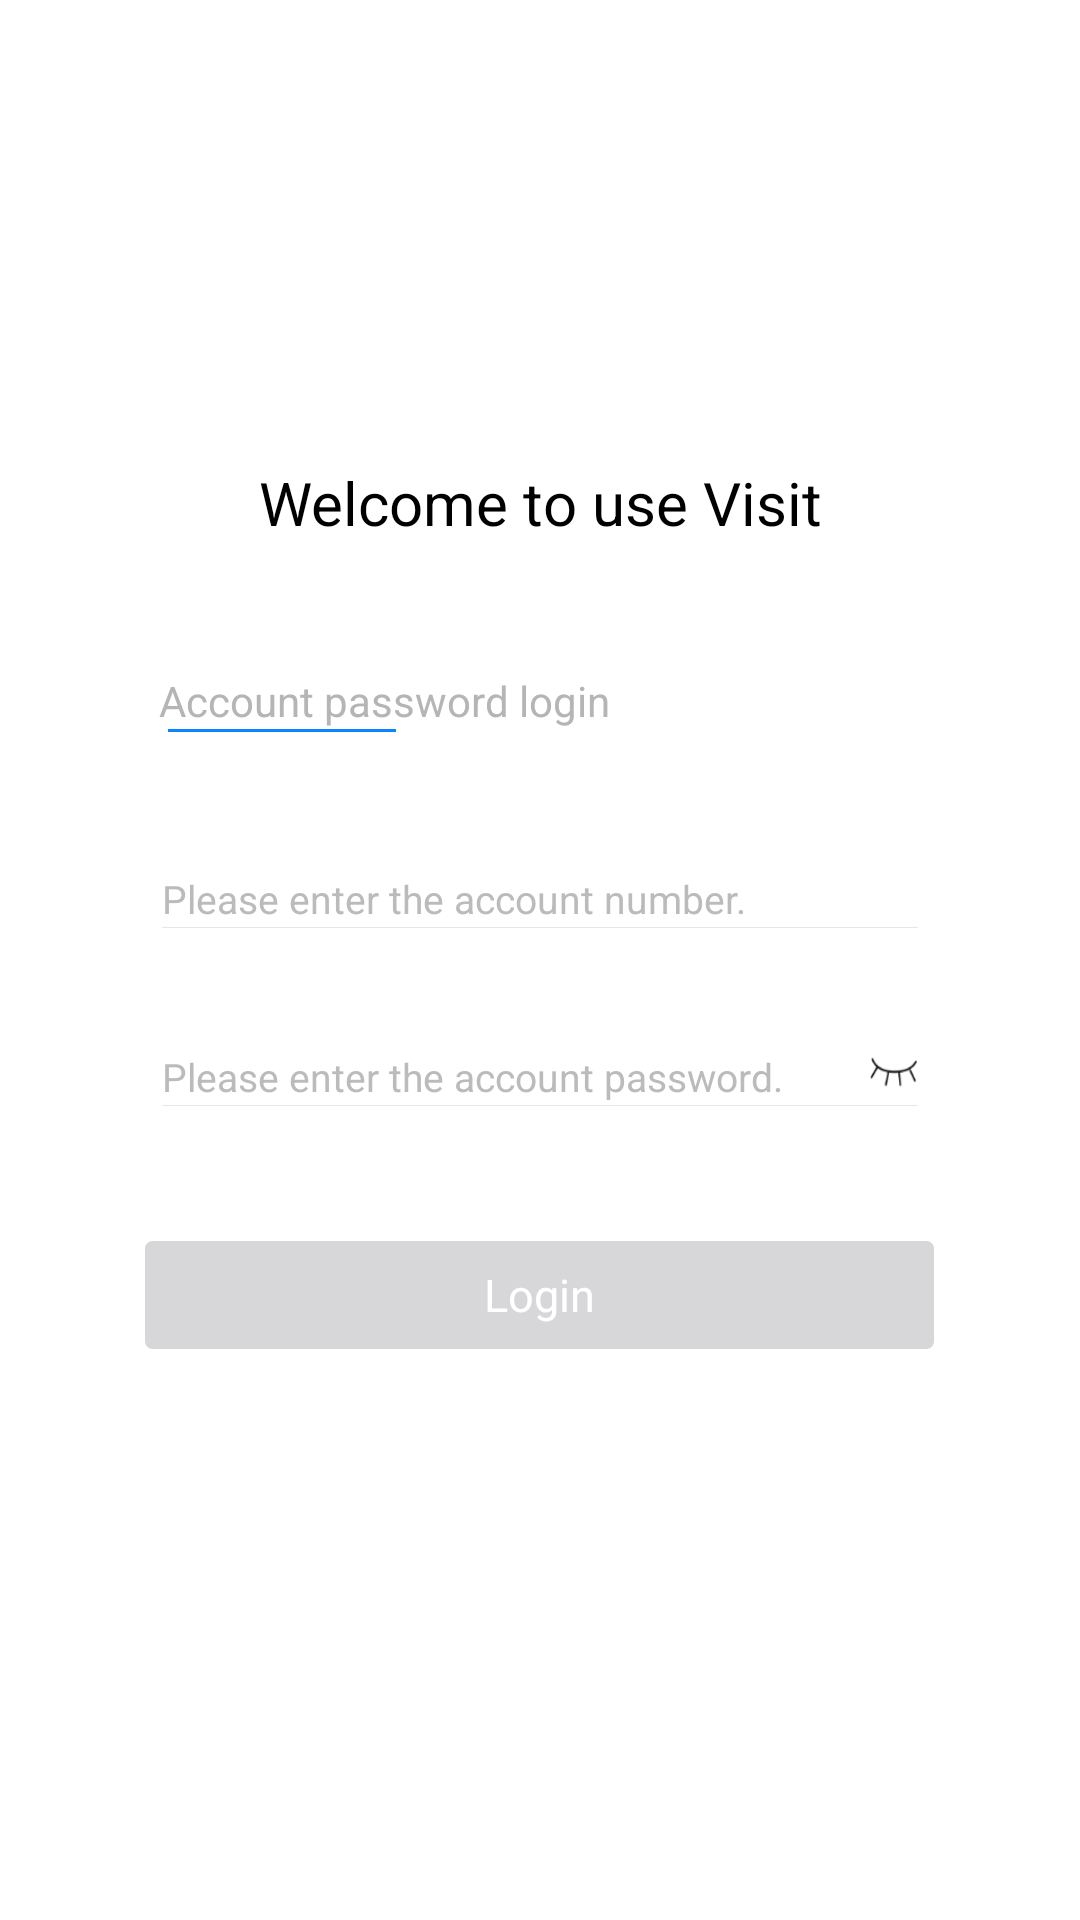

Screen size 1080px x 1920px. Icon name, then its box in pixels as bbox(x1, y1, x2, y2):
invisible: bbox(870, 1057, 917, 1087)
